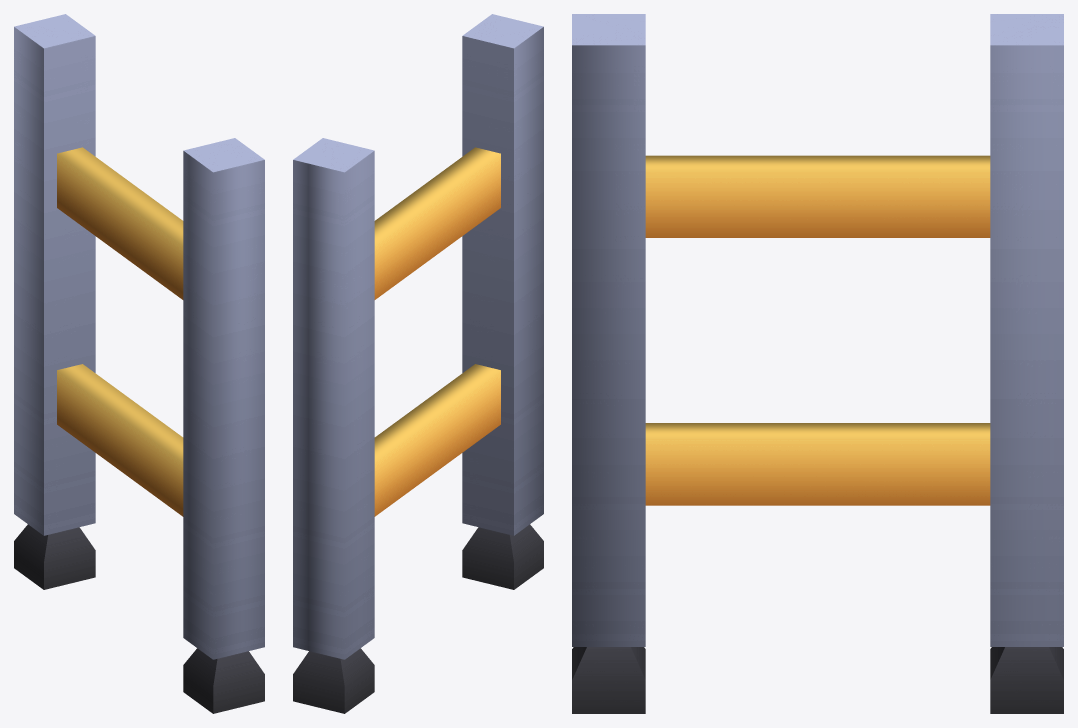
The model's file is structure-yellow-high.glb.
3 views of the same model, side by side, from view 1: azimuth 30°, elevation 25°; view 2: azimuth 150°, elevation 25°; view 3: azimuth 270°, elevation 25° (orthographic). The views are drawn at different scales.
Parts seen in each view (by area): view 1: structure-yellow-high; view 2: structure-yellow-high; view 3: structure-yellow-high.
Boxes of the visible parts, x1,y1,x2,y2 form: structure-yellow-high: (14,14,264,713); structure-yellow-high: (293,14,543,713); structure-yellow-high: (572,14,1063,713).
Bounding box in the file's own units: 0.15 × 1.5 × 1.
1 material, 1 textured.
